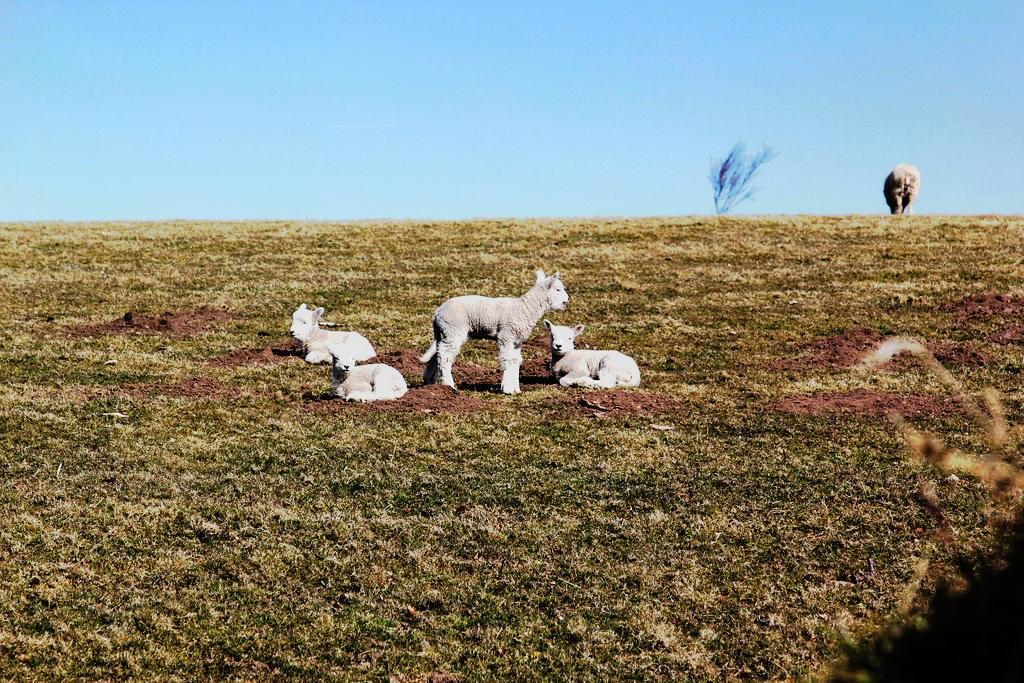Sheep: (416, 272, 568, 394), (544, 319, 640, 388), (292, 300, 378, 362), (328, 341, 410, 401)
